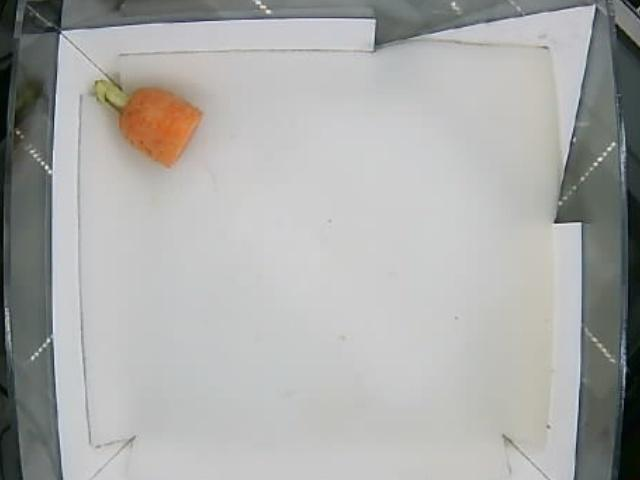Carrot: (89, 75, 201, 171)
